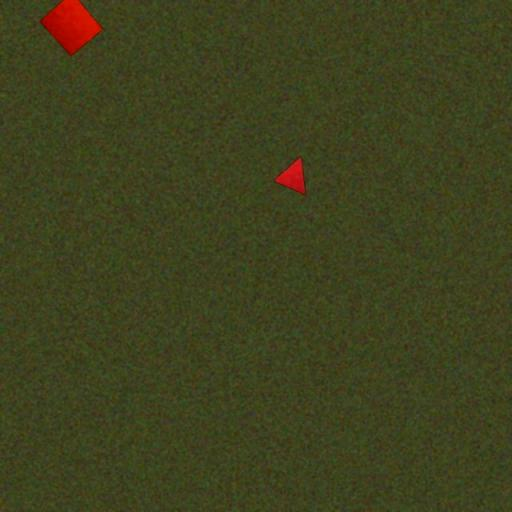RED_SQUARE: (38, 0, 104, 57)
